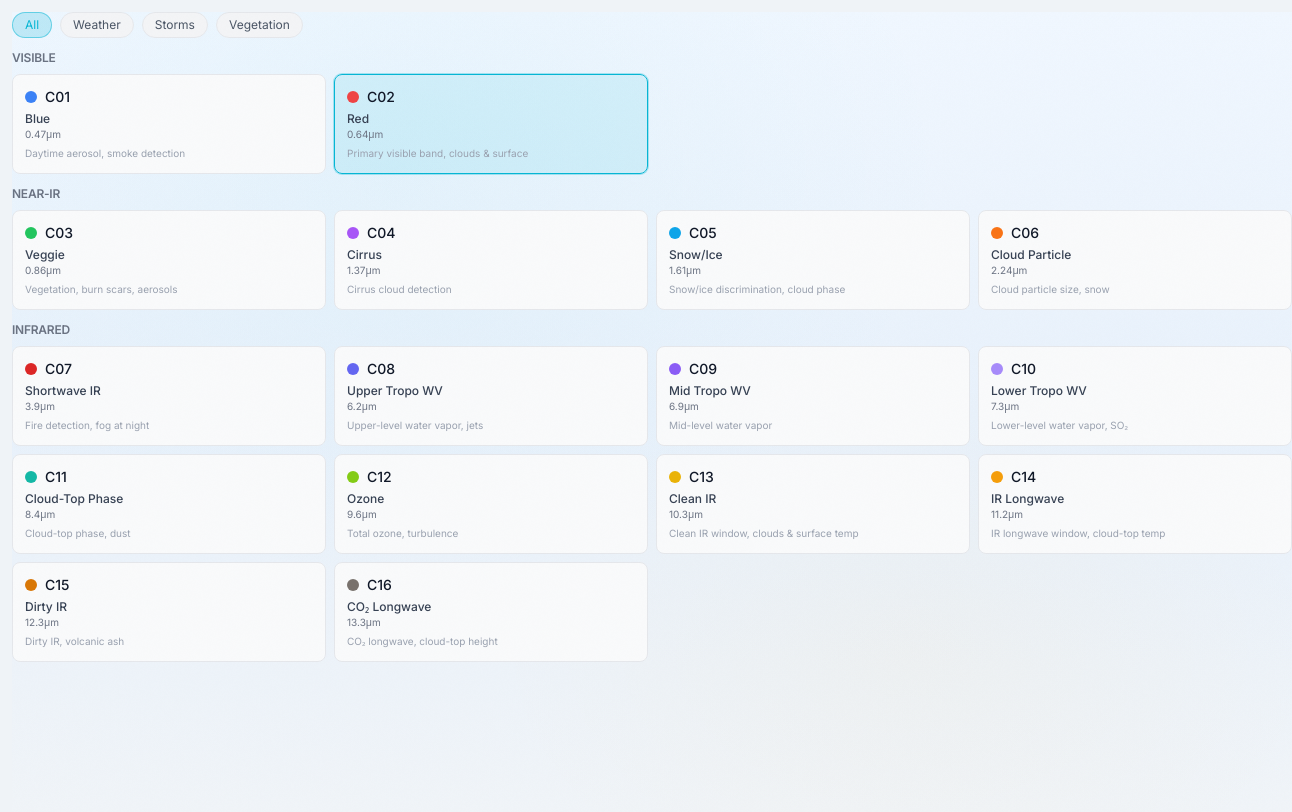
Test case: BandPicker - Extended › filters to Vegetation preset
Click the button "Vegetation" at [259, 25], box top-left (216, 12), bottom-right (303, 38)
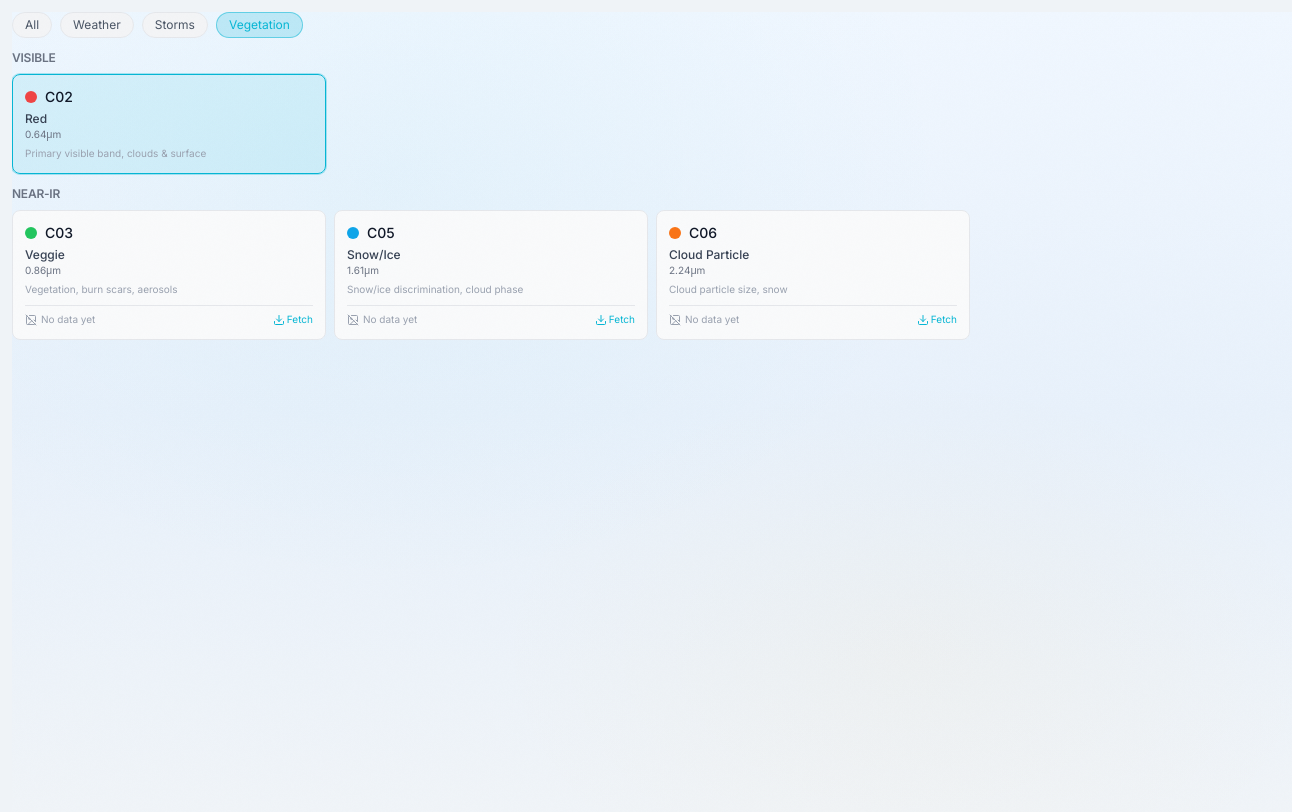
expect the text "C02" is shown: met, box top-left (45, 87), bottom-right (73, 107)
expect the button "C07" is gone: met
